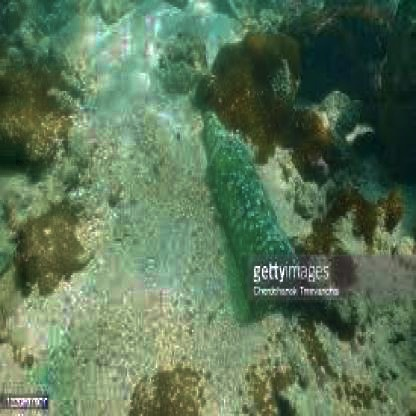gbottle: (203, 111, 290, 314)
